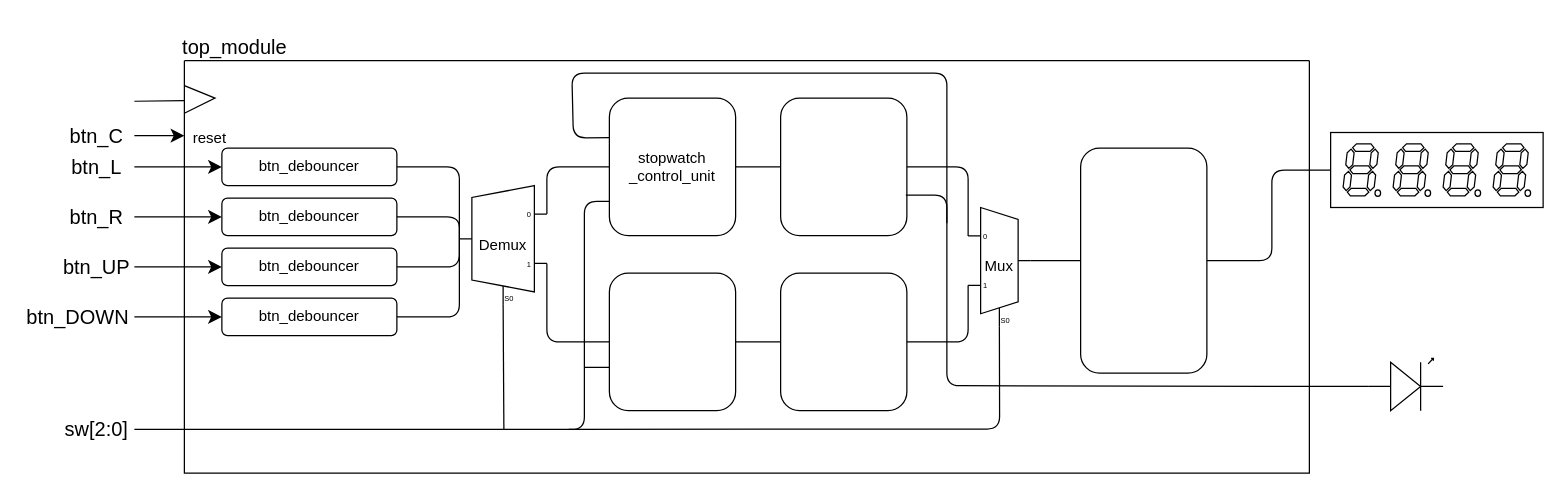
This 1565x496 diagram has some shape labels left out. Each missing label, with the centre of its shape:
"fnd_controller" belongs at pixel 1143 260.
"stopwatch _datapath" belongs at pixel 843 166.
"watch _control_unit" belongs at pixel 672 341.
"watch _datapath" belongs at pixel 843 341.
